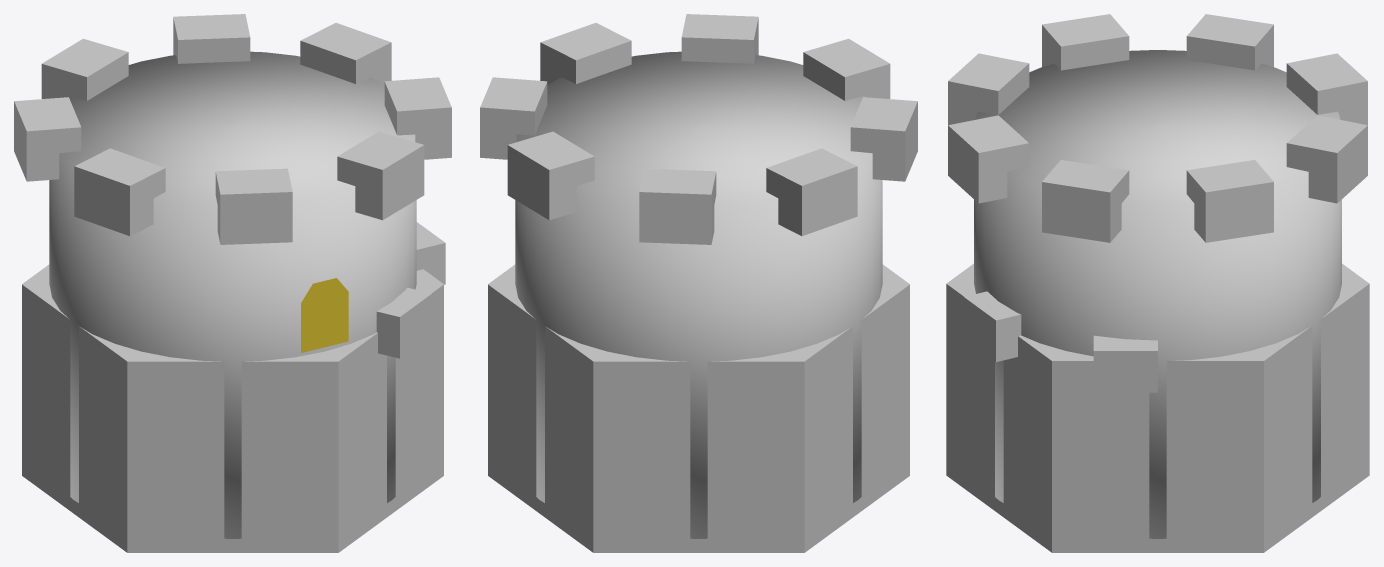
The picture shows the model from 3 angles, left to right: view 1: azimuth 30°, elevation 25°; view 2: azimuth 150°, elevation 25°; view 3: azimuth 270°, elevation 25°; orthographic projection.
Parts seen in each view (by area): view 1: CastleTower, Cylinder, Cube_001, Window, Cube; view 2: CastleTower, Cylinder; view 3: CastleTower, Cylinder, Cube, Cube_001.
Boxes of the visible parts, left/top/right/bottom form: CastleTower: left=14, top=14, right=451, bottom=538; Cylinder: left=22, top=264, right=443, bottom=552; Cube_001: left=376, top=287, right=431, bottom=358; Window: left=301, top=278, right=348, bottom=352; Cube: left=416, top=222, right=445, bottom=284; CastleTower: left=480, top=14, right=917, bottom=538; Cylinder: left=488, top=264, right=909, bottom=552; CastleTower: left=948, top=14, right=1367, bottom=538; Cylinder: left=946, top=263, right=1369, bottom=552; Cube: left=1093, top=335, right=1157, bottom=392; Cube_001: left=964, top=291, right=1021, bottom=362.
Size of the model in its own units: 9.18 by 8.93 by 9.2.
